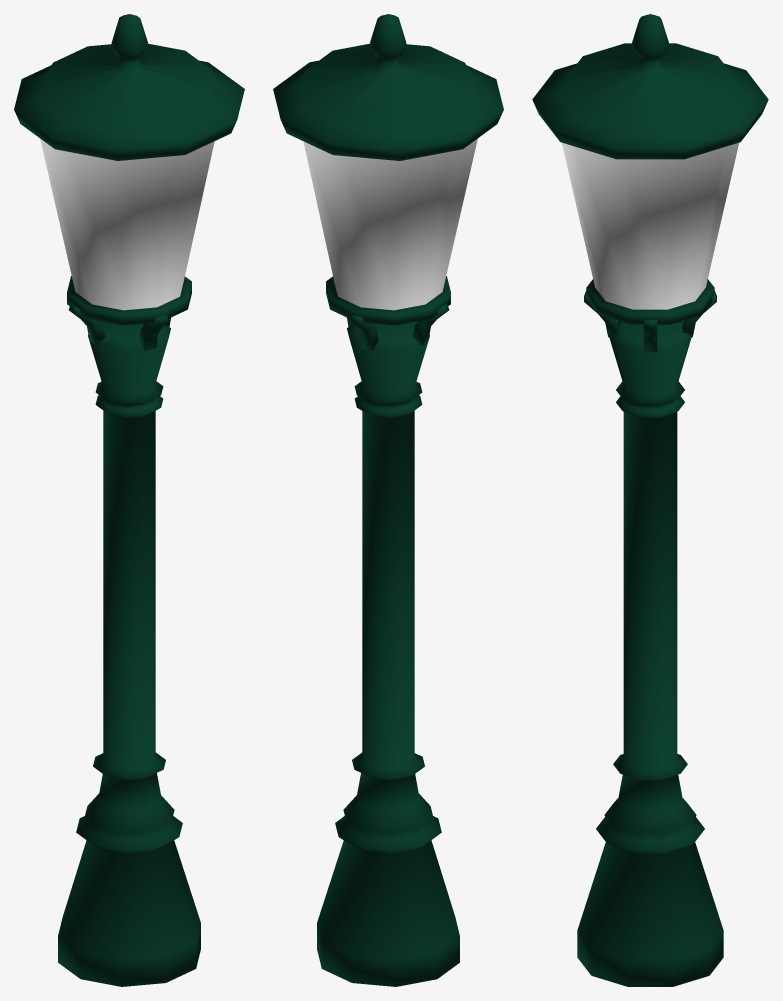
Rendered from lantaarnpaal.fbx.
The picture shows the model from 3 angles, left to right: view 1: azimuth 30°, elevation 25°; view 2: azimuth 150°, elevation 25°; view 3: azimuth 270°, elevation 25°; orthographic projection.
Parts seen in each view (by area): view 1: lantaarnpaal.001; view 2: lantaarnpaal.001; view 3: lantaarnpaal.001.
Boxes of the visible parts, <box> form: lantaarnpaal.001: <box>14,14,244,986</box>; lantaarnpaal.001: <box>273,14,503,986</box>; lantaarnpaal.001: <box>532,14,768,986</box>.
Bounding box in the file's own units: 27.68 × 128 × 29.11.
